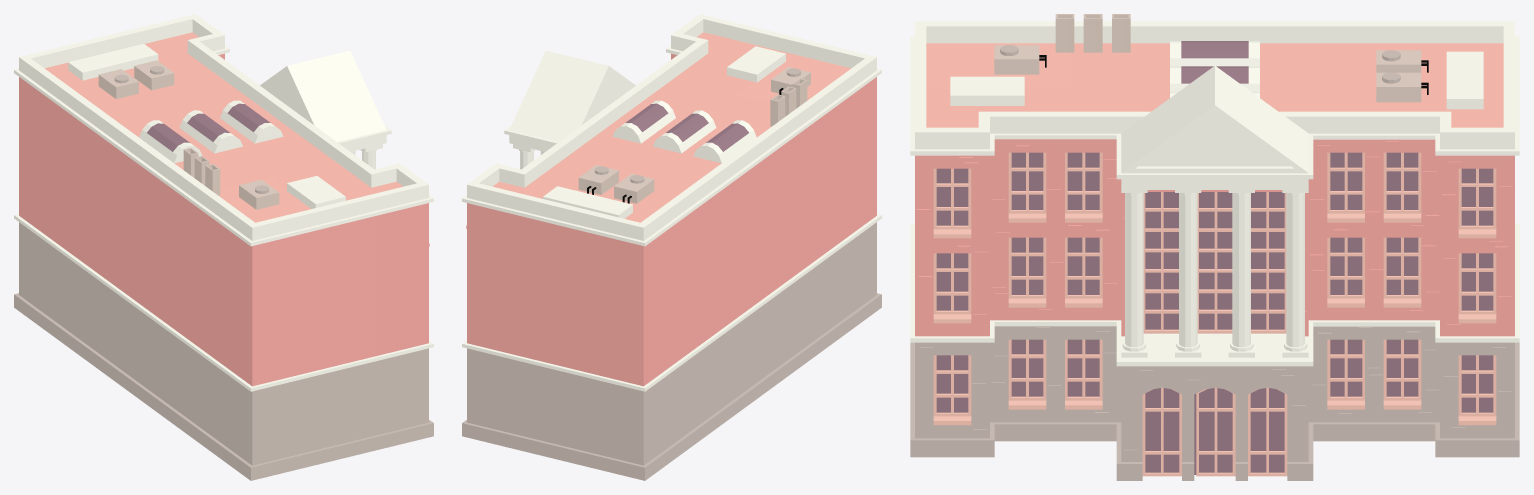
Rendered from university.glb.
The picture shows the model from 3 angles, left to right: view 1: azimuth 30°, elevation 25°; view 2: azimuth 150°, elevation 25°; view 3: azimuth 270°, elevation 25°; orthographic projection. The views are drawn at different scales.
Bounding box in the file's own units: 17.5 × 22 × 32.5.
Materials: 1 (1 with a texture image).
